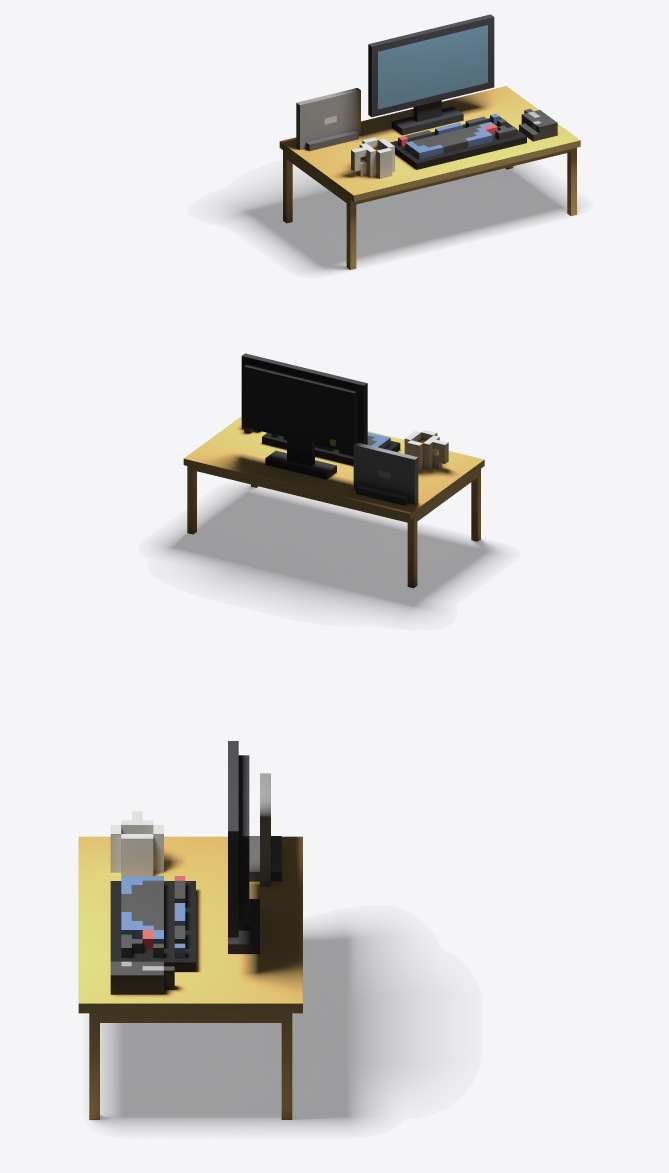
Rendered from setup.glb.
The picture shows the model from 3 angles, top to bottom: view 1: azimuth 30°, elevation 25°; view 2: azimuth 150°, elevation 25°; view 3: azimuth 270°, elevation 25°; orthographic projection. The views are drawn at different scales.
Parts seen in each view (by area): view 1: Untitled, Plane; view 2: Untitled, Plane; view 3: Untitled, Plane.
Boxes of the visible parts, box(x1,y1,x2,y2) form: Untitled: box(279, 14, 580, 269); Plane: box(229, 165, 577, 270); Untitled: box(183, 353, 484, 588); Plane: box(160, 485, 500, 613); Untitled: box(78, 741, 302, 1119); Plane: box(91, 926, 403, 1126).
Bounding box in the file's own units: 7 × 2.7 × 6.
Materials: 2 (2 with a texture image).
